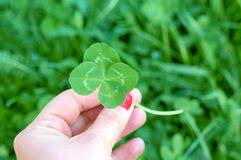4-clover: (70, 43, 139, 108)
